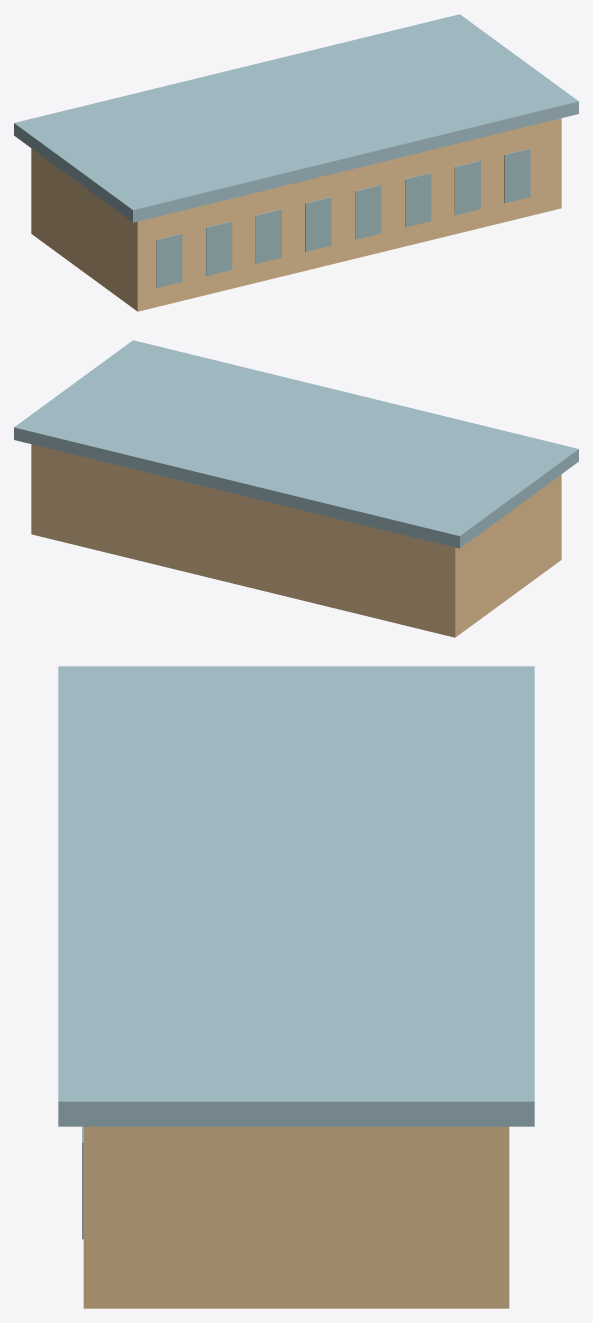
File: modelo.glb
The picture shows the model from 3 angles, top to bottom: view 1: azimuth 30°, elevation 25°; view 2: azimuth 150°, elevation 25°; view 3: azimuth 270°, elevation 25°; orthographic projection. The views are drawn at different scales.
Visible parts, largest first — view 1: cubierta, cuerpo, vano_referencial (×8); view 2: cubierta, cuerpo; view 3: cubierta, cuerpo.
Boxes of the visible parts, box(x1,y1,x2,y2) form: cubierta: box(14, 14, 578, 222); cuerpo: box(31, 118, 561, 311); vano_referencial (×8): box(156, 148, 530, 288); cubierta: box(14, 340, 578, 548); cuerpo: box(31, 444, 561, 637); cubierta: box(58, 666, 534, 1126); cuerpo: box(83, 1126, 509, 1308).
Bounding box in the file's own units: 24.2 × 5.65 × 11.2.
